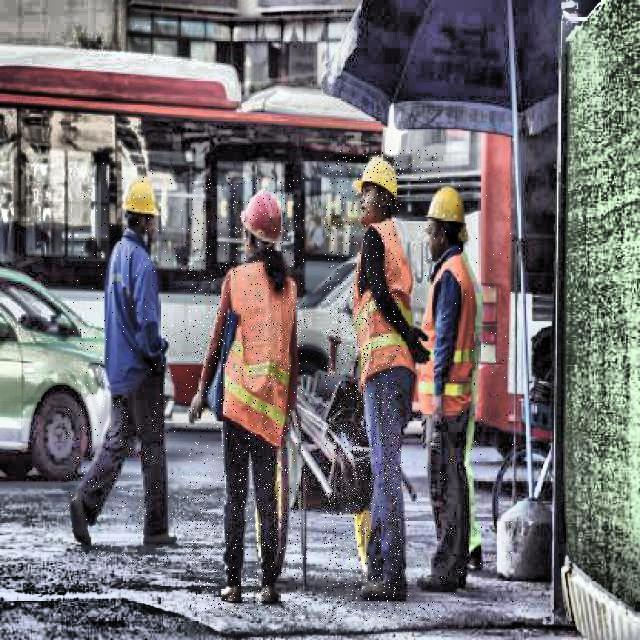safety_helmet: (240, 190, 284, 245), (353, 157, 397, 200), (122, 178, 160, 217), (427, 187, 466, 224)
safety_jacket: (221, 263, 298, 448), (417, 252, 486, 415), (353, 219, 416, 394)
